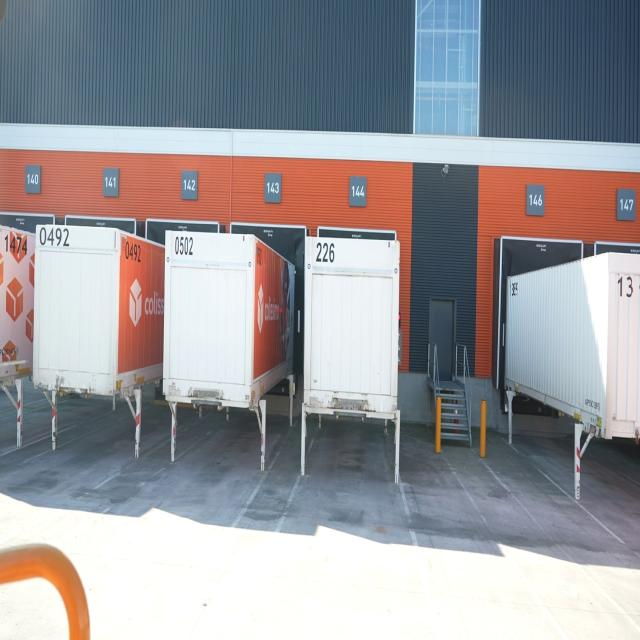Code: (37, 225, 71, 252), (2, 228, 28, 259), (171, 232, 197, 259), (310, 239, 336, 266), (122, 237, 144, 264)
